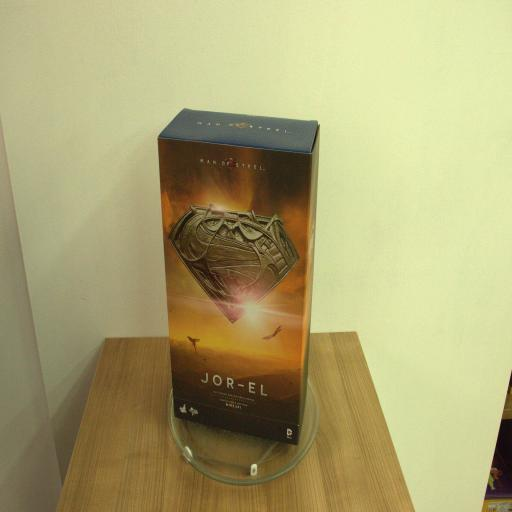superman: (155, 107, 321, 448)
